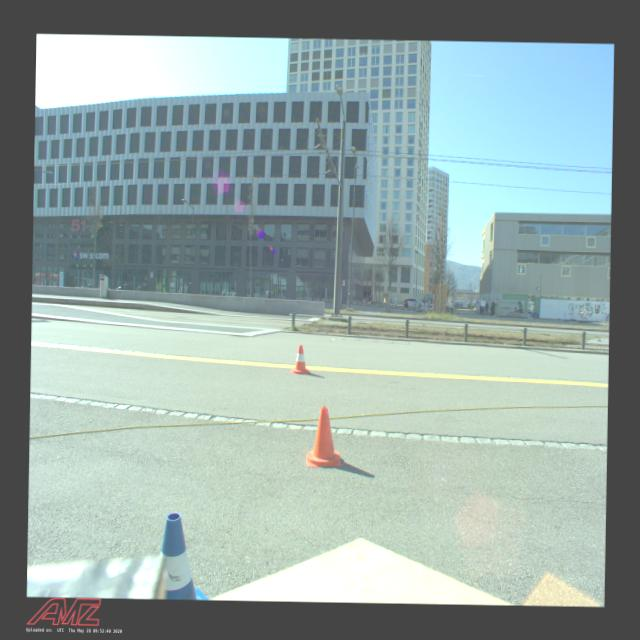blue_cone: (160, 512, 210, 600)
orange_cone: (306, 406, 342, 468), (290, 344, 310, 374)
